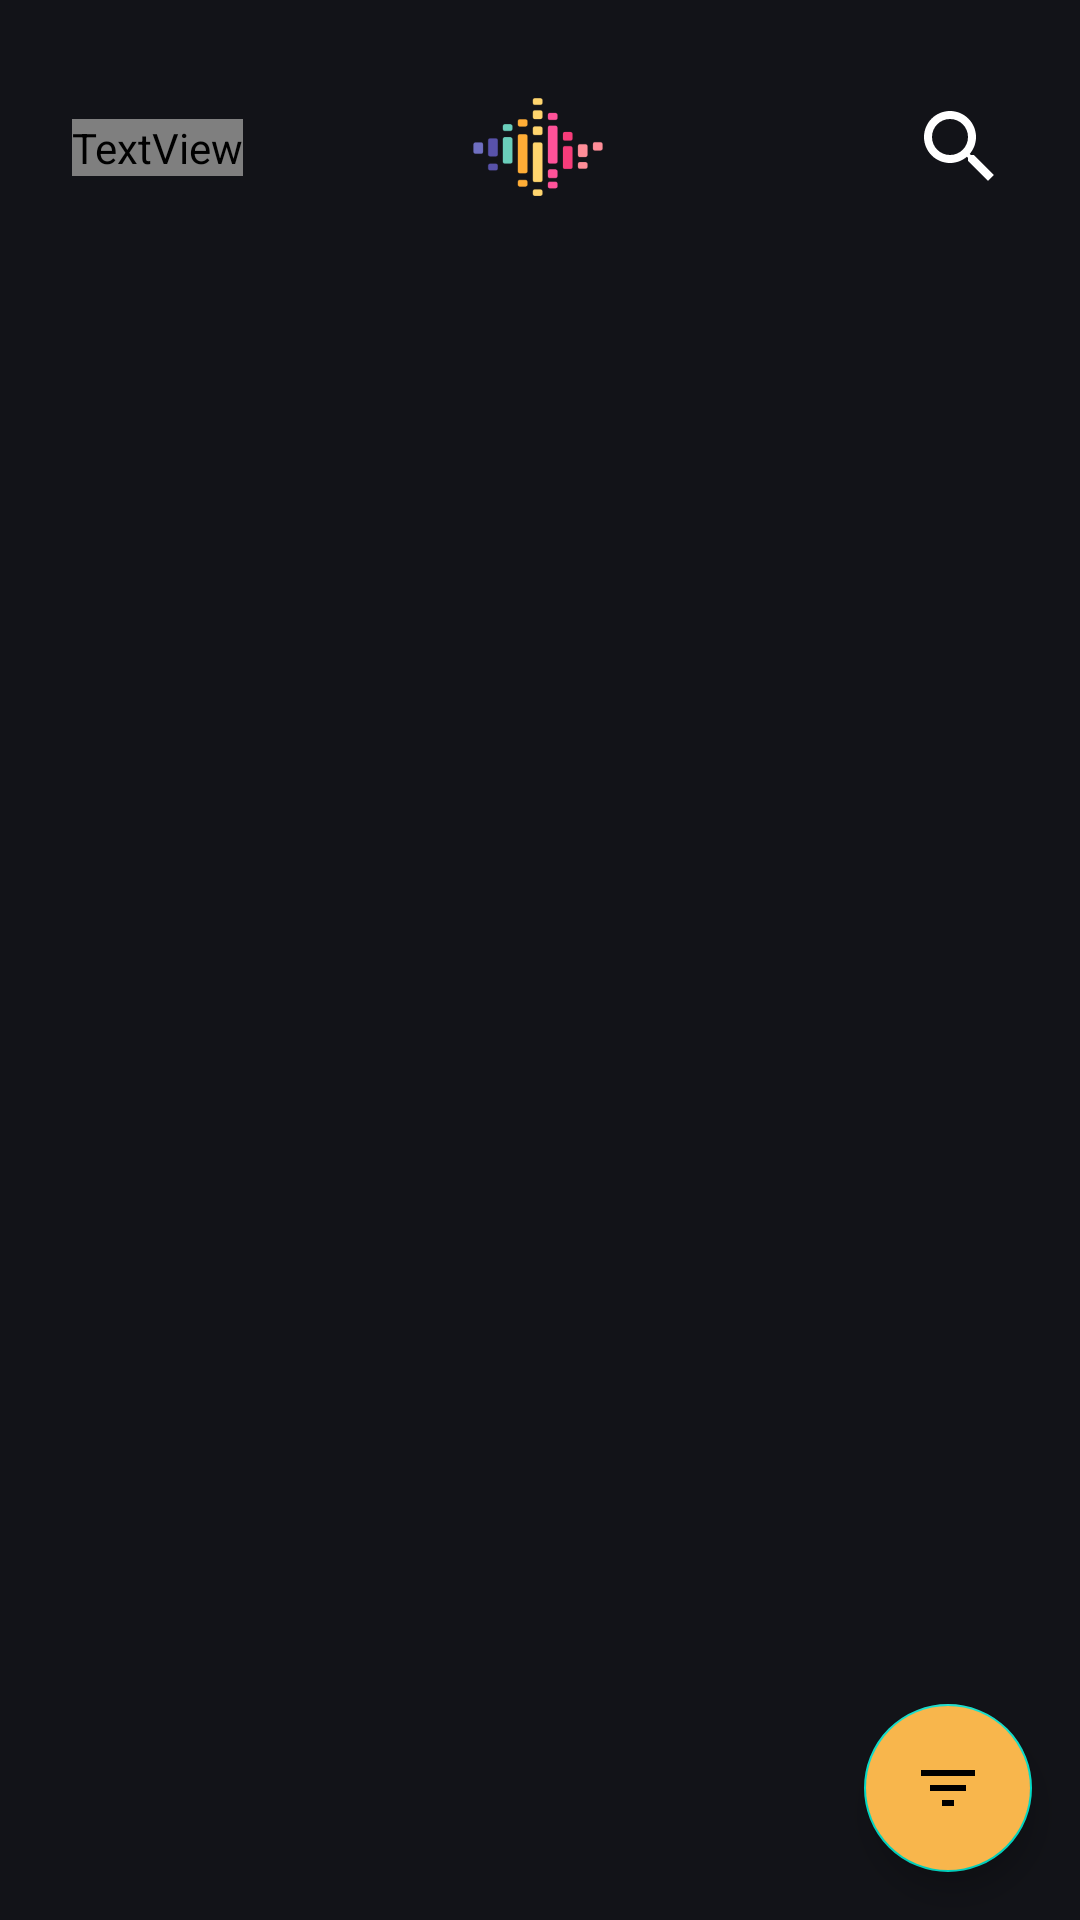

Icons on this 1080px x 1920px Android screen, each with its box as (x1, y1, x2, y2):
filter list: (864, 1704, 1032, 1872)
Search users: (924, 111, 994, 181)
